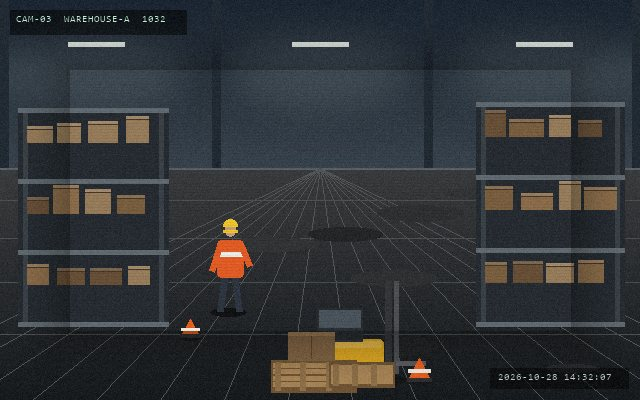cone: (406, 356, 432, 384), (179, 317, 201, 340)
forklift: (296, 279, 427, 387)
pallet: (269, 358, 358, 394), (327, 360, 396, 389)
person: (209, 217, 251, 315)
shelf: (476, 102, 624, 322), (18, 108, 168, 322)
